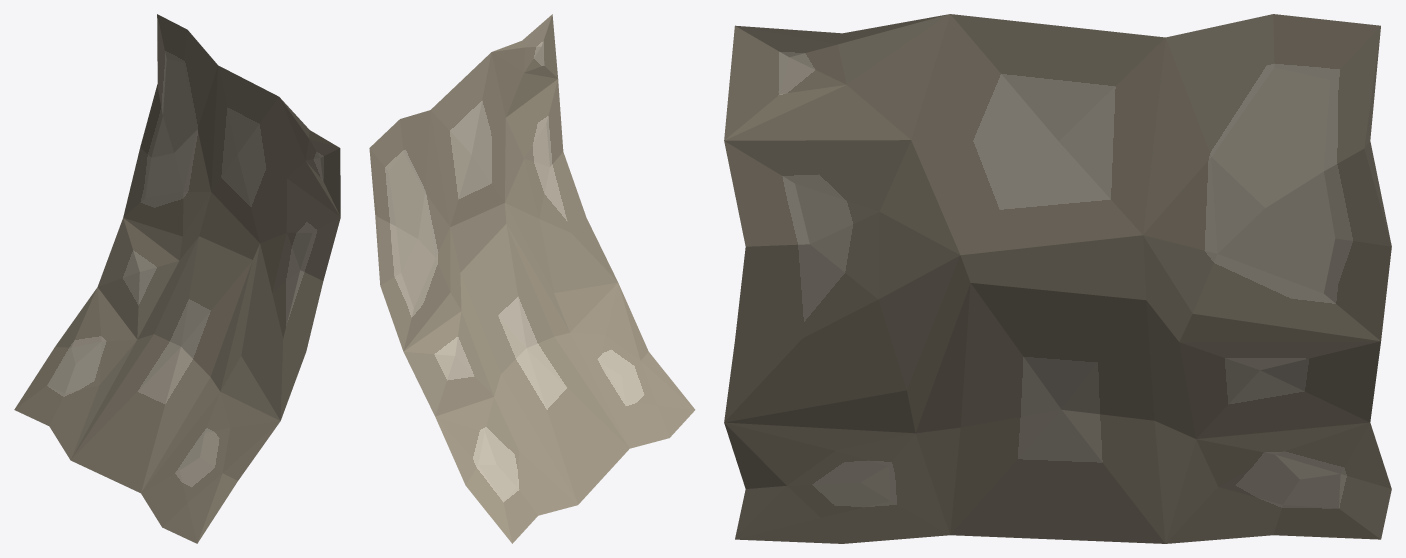
The model's file is SoftArch_03.fbx.
The picture shows the model from 3 angles, left to right: view 1: azimuth 30°, elevation 25°; view 2: azimuth 150°, elevation 25°; view 3: azimuth 270°, elevation 25°; orthographic projection. The views are drawn at different scales.
Visible parts, largest first — view 1: SoftArch_03; view 2: SoftArch_03; view 3: SoftArch_03.
Part boxes in pixels (<box>): SoftArch_03: <box>14,14,340,543</box>; SoftArch_03: <box>369,14,695,543</box>; SoftArch_03: <box>724,14,1391,543</box>.
Bounding box in the file's own units: 46.56 × 112 × 103.
1 material, 1 textured.
